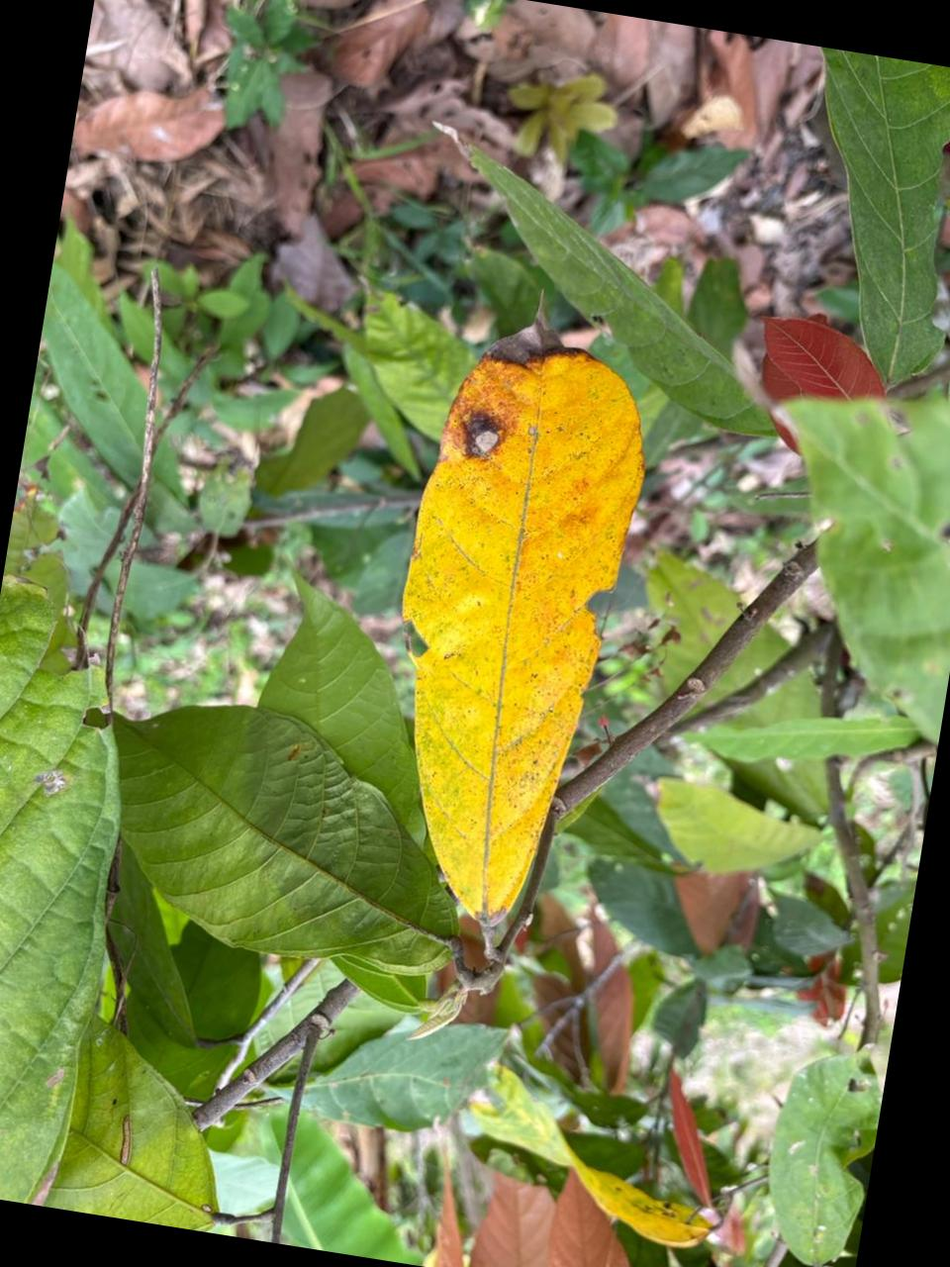Fosforo: (404, 327, 644, 924)
